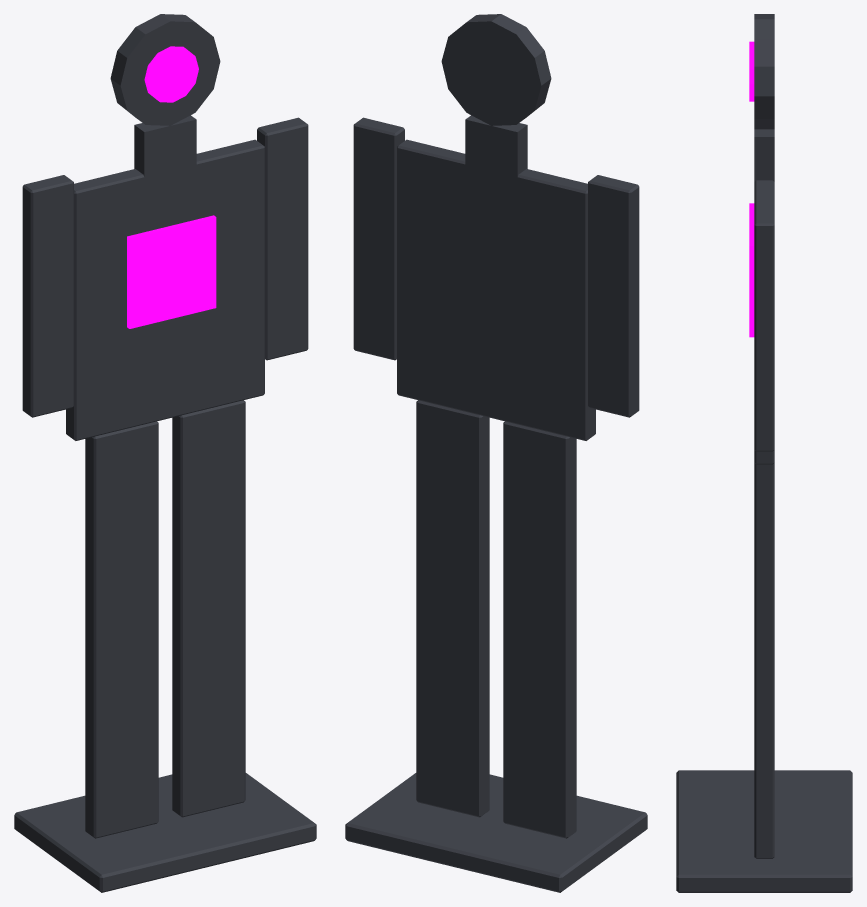
Rendered from RangeTarget.fbx.
The picture shows the model from 3 angles, left to right: view 1: azimuth 30°, elevation 25°; view 2: azimuth 150°, elevation 25°; view 3: azimuth 270°, elevation 25°; orthographic projection.
Parts seen in each view (by area): view 1: Body, Head; view 2: Body, Head; view 3: Body, Head.
Boxes of the visible parts, x1,y1,x2,y2 form: Body: [14, 115, 316, 892]; Head: [110, 14, 220, 125]; Body: [345, 115, 647, 892]; Head: [441, 14, 551, 125]; Body: [676, 129, 852, 892]; Head: [749, 14, 774, 129].
Bounding box in the file's own units: 0.64 × 1.8 × 0.35.
